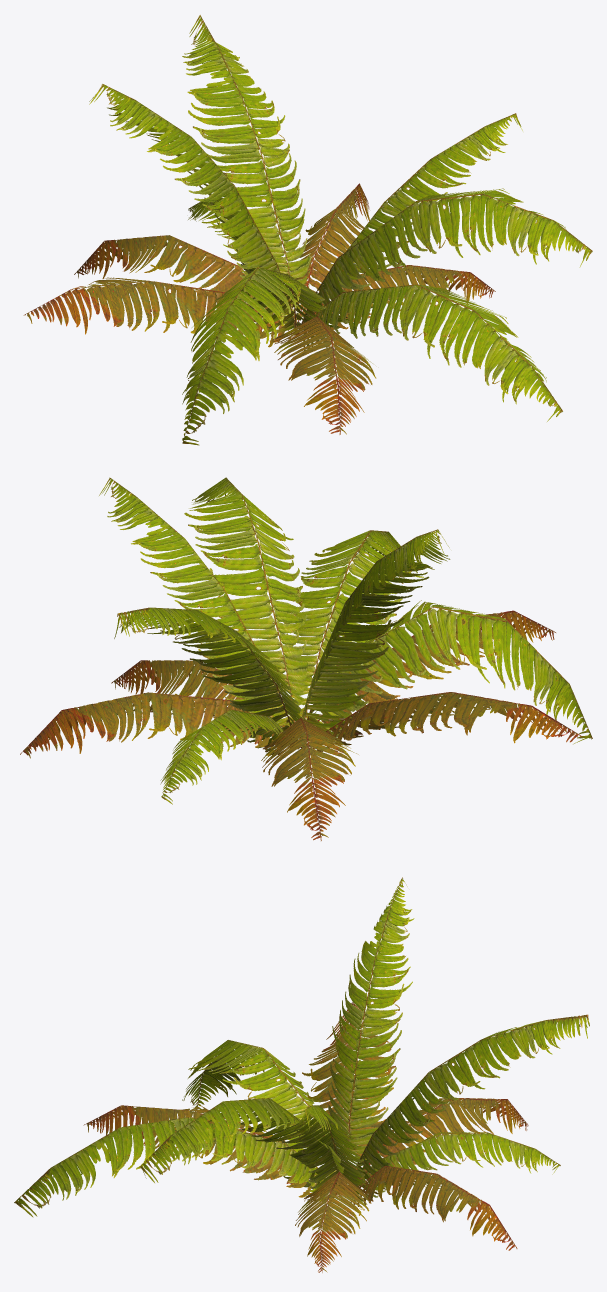
Rendered from fern_01.obj.
The picture shows the model from 3 angles, top to bottom: view 1: azimuth 30°, elevation 25°; view 2: azimuth 150°, elevation 25°; view 3: azimuth 270°, elevation 25°; orthographic projection. The views are drawn at different scales.
Visible parts, largest first — view 1: Fern_01; view 2: Fern_01; view 3: Fern_01.
Boxes of the visible parts, box(x1,y1,x2,y2) form: Fern_01: box(23, 15, 592, 445); Fern_01: box(20, 477, 592, 840); Fern_01: box(14, 877, 589, 1272).
Bounding box in the file's own units: 1.82 × 0.9961 × 2.03.
1 material, 1 textured.
